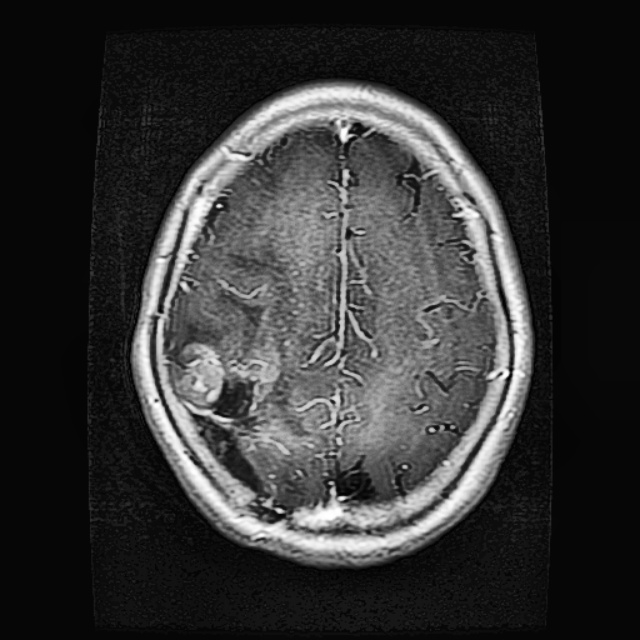Glioma: (167, 334, 269, 504)
